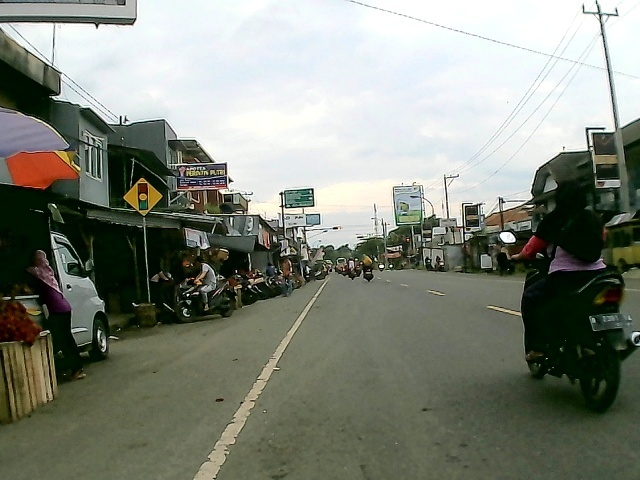Lampu isyarat: (121, 176, 165, 217)
